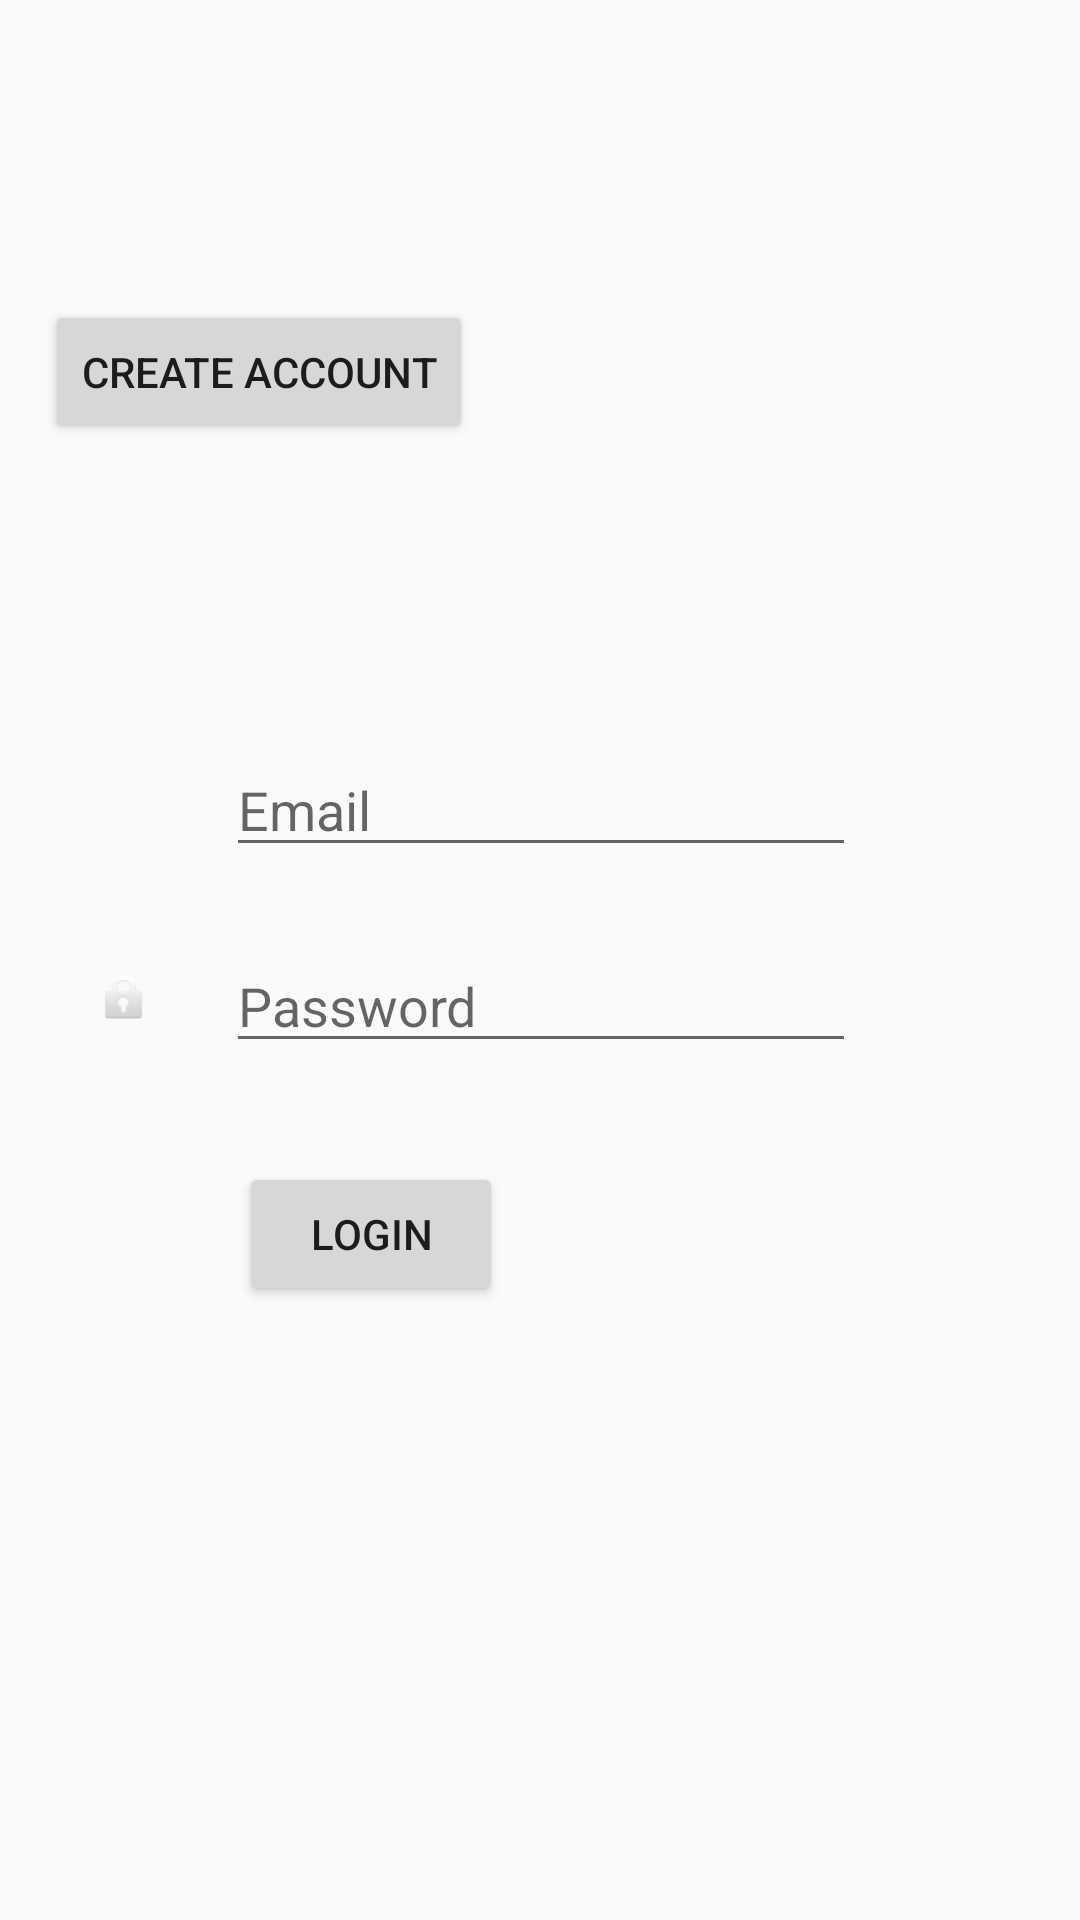

Icon bounding boxes for this 1080 x 1920 phone screenshot, format (x1, y1, x2, y2):
lock idle: (105, 996, 142, 1019)
